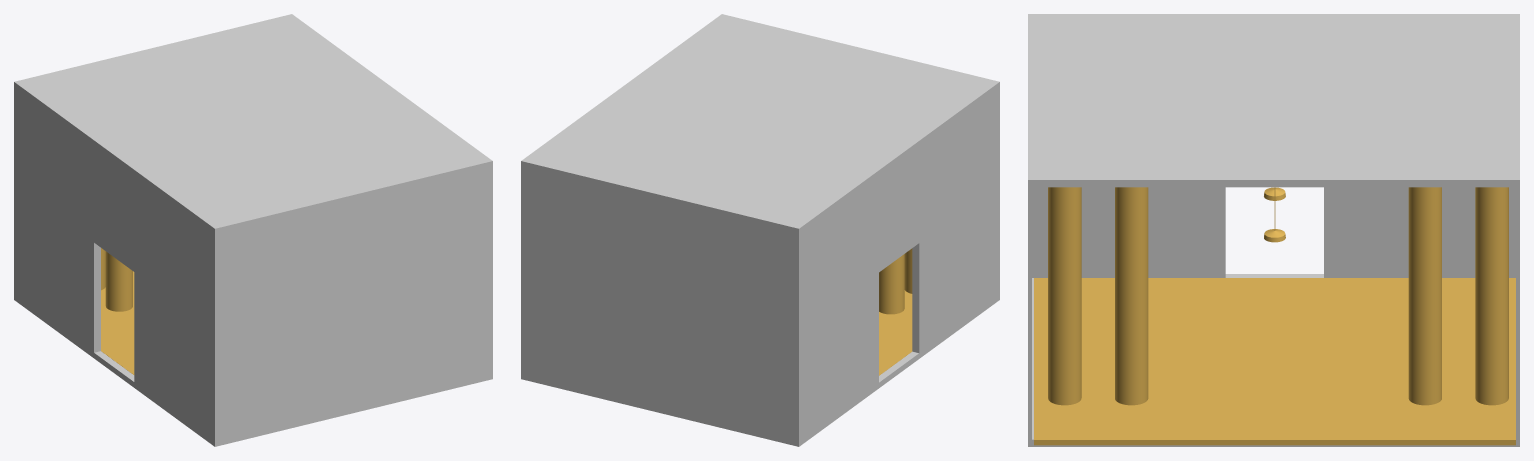
Rendered from entrace.fbx.
3 renders of one model, left to right at view 1: azimuth 30°, elevation 25°; view 2: azimuth 150°, elevation 25°; view 3: azimuth 270°, elevation 25°, orthographic. The views are drawn at different scales.
Parts seen in each view (by area): view 1: walls, Cube, Cylinder; view 2: walls, Cube, Cylinder; view 3: walls, Cube, Cylinder.
Part boxes in pixels (bbox=[...]): walls: bbox=[14, 14, 492, 446]; Cube: bbox=[101, 271, 134, 374]; Cylinder: bbox=[101, 248, 132, 311]; walls: bbox=[521, 14, 999, 446]; Cube: bbox=[879, 290, 912, 375]; Cylinder: bbox=[879, 248, 912, 314]; walls: bbox=[1028, 14, 1519, 446]; Cube: bbox=[1034, 278, 1515, 445]; Cylinder: bbox=[1048, 187, 1508, 405].
Size of the model in its own units: 801 by 600 by 1001.
